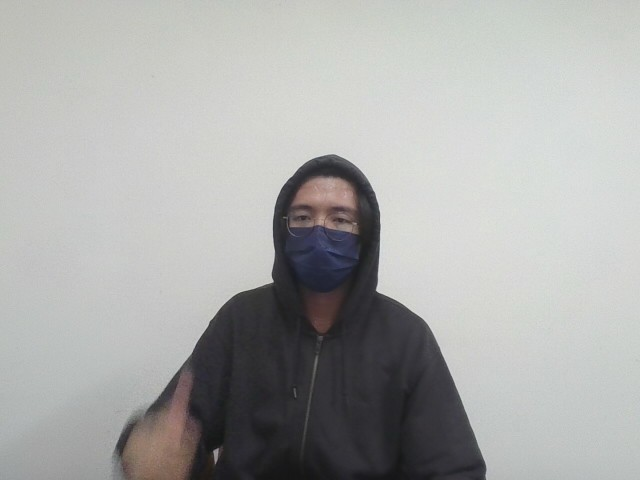No_Helmet: (268, 150, 382, 296)
person: (86, 131, 525, 480)
